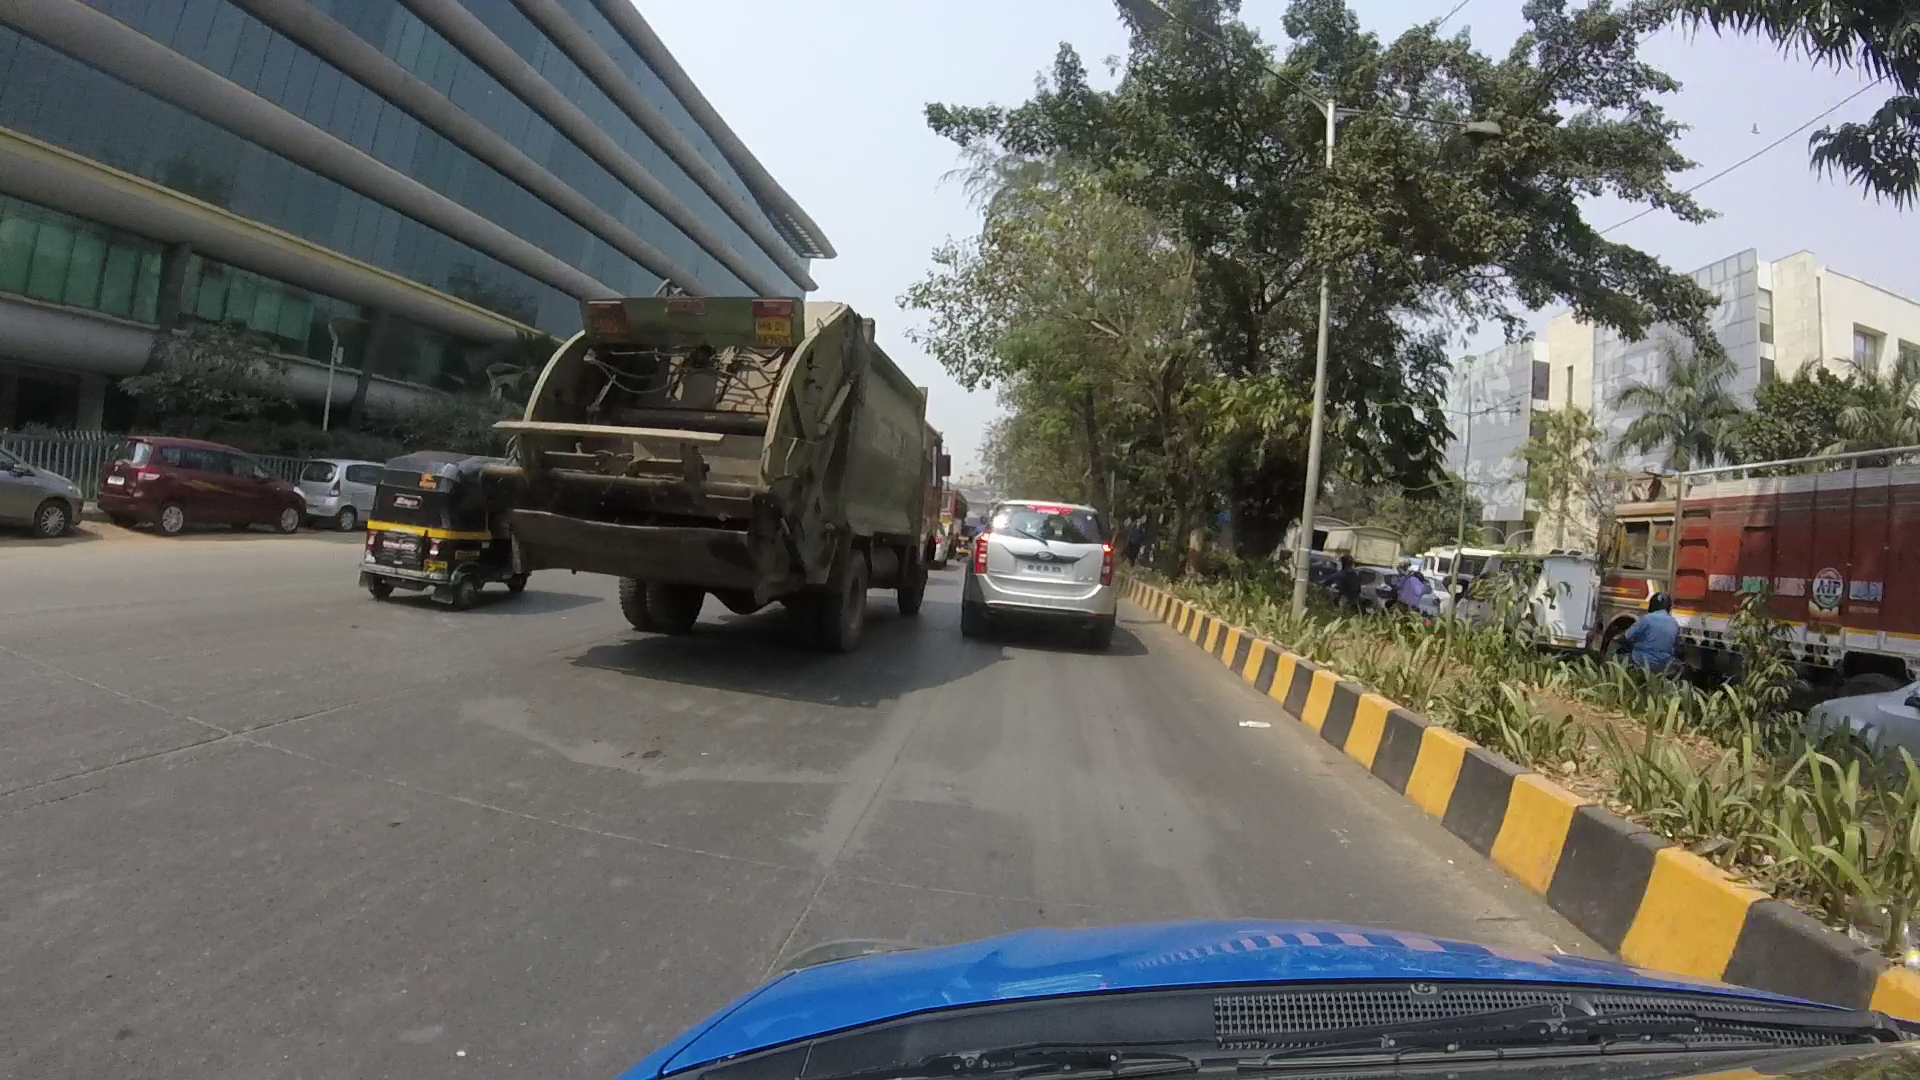car: (981, 487, 1131, 633), (116, 427, 295, 535)
rickshaw: (357, 442, 522, 611)
truck: (498, 298, 943, 651)
